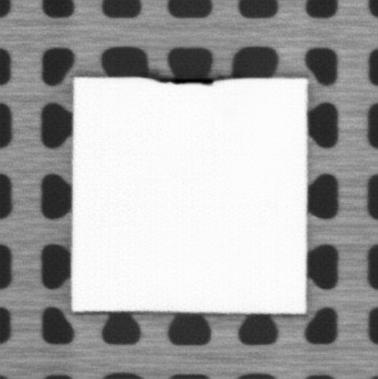DIE_BROKEN: (150, 75, 216, 85)
